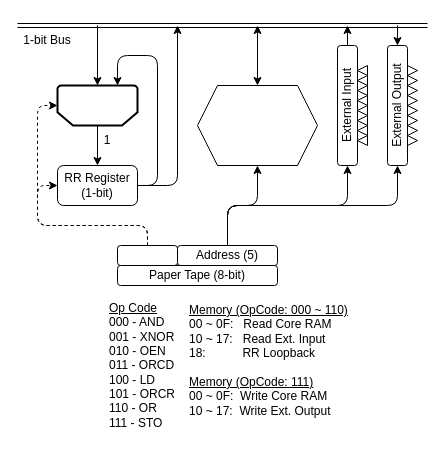
Image size: 445x453. Some labels were removed from this diagram. Here are the shapes that lost their labels. From the top down, the centre of each, then its label:
point 97,105: LU (1-bit)
point 257,125: Core Memory (16 bits) (5-bit Address) (1-bit Data)
point 147,255: OpC (3)
